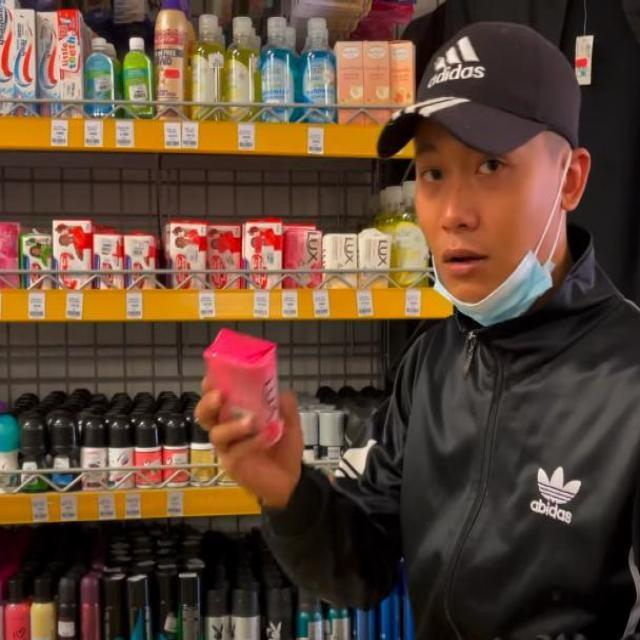hairnet: (411, 134, 558, 325)
